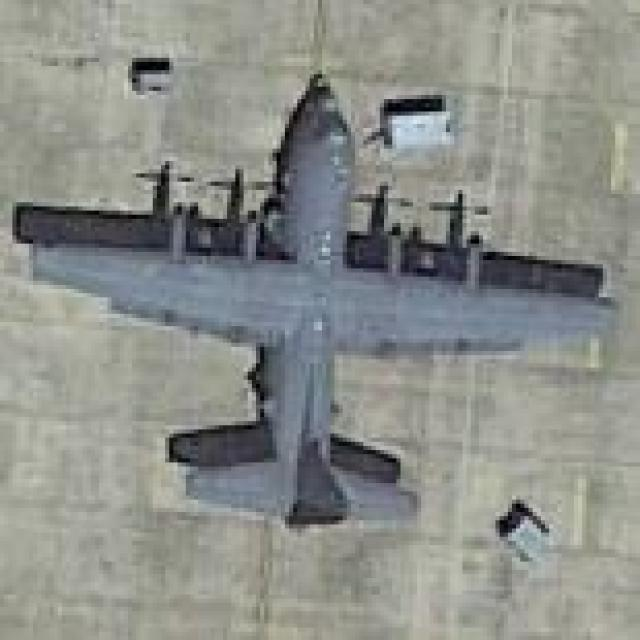C-130_TopDown: (9, 67, 624, 538)
